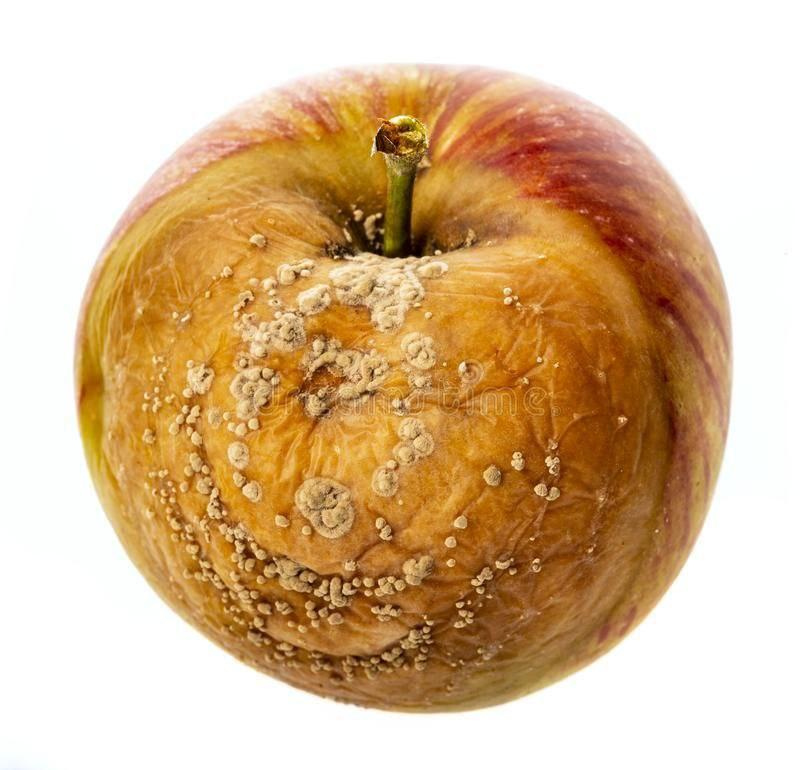Apple: (75, 58, 728, 710)
